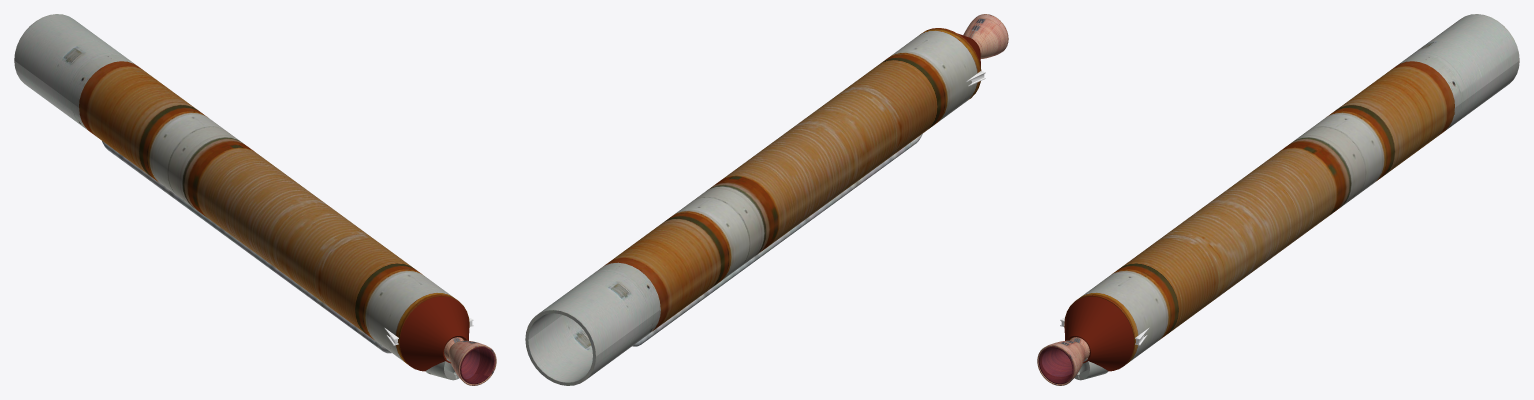
File: deltaivstg1.obj
The picture shows the model from 3 angles, left to right: view 1: azimuth 30°, elevation 25°; view 2: azimuth 150°, elevation 25°; view 3: azimuth 330°, elevation 25°; orthographic projection.
Parts seen in each view (by area): view 1: group11, group14, group9, group5, group15, group7, group8; view 2: group11, group14, group15, group5, group8; view 3: group11, group14, group9, group15, group7, group8.
Part boxes in pixels (left/top/right/bottom): group11: left=79, top=61, right=469, bottom=371; group14: left=14, top=14, right=136, bottom=107; group9: left=399, top=296, right=469, bottom=371; group5: left=102, top=141, right=377, bottom=347; group15: left=14, top=61, right=88, bottom=130; group7: left=460, top=346, right=495, bottom=384; group8: left=444, top=337, right=496, bottom=385; group11: left=603, top=28, right=981, bottom=331; group14: left=525, top=262, right=660, bottom=356; group15: left=525, top=309, right=660, bottom=385; group5: left=632, top=143, right=913, bottom=346; group8: left=963, top=14, right=1008, bottom=58; group11: left=1064, top=61, right=1454, bottom=371; group14: left=1397, top=14, right=1519, bottom=107; group9: left=1064, top=296, right=1134, bottom=371; group15: left=1445, top=61, right=1519, bottom=130; group7: left=1038, top=346, right=1073, bottom=384; group8: left=1037, top=337, right=1089, bottom=385.
Size of the model in its own units: 5.78 by 5.72 by 53.67.
10 materials, 7 textured.
